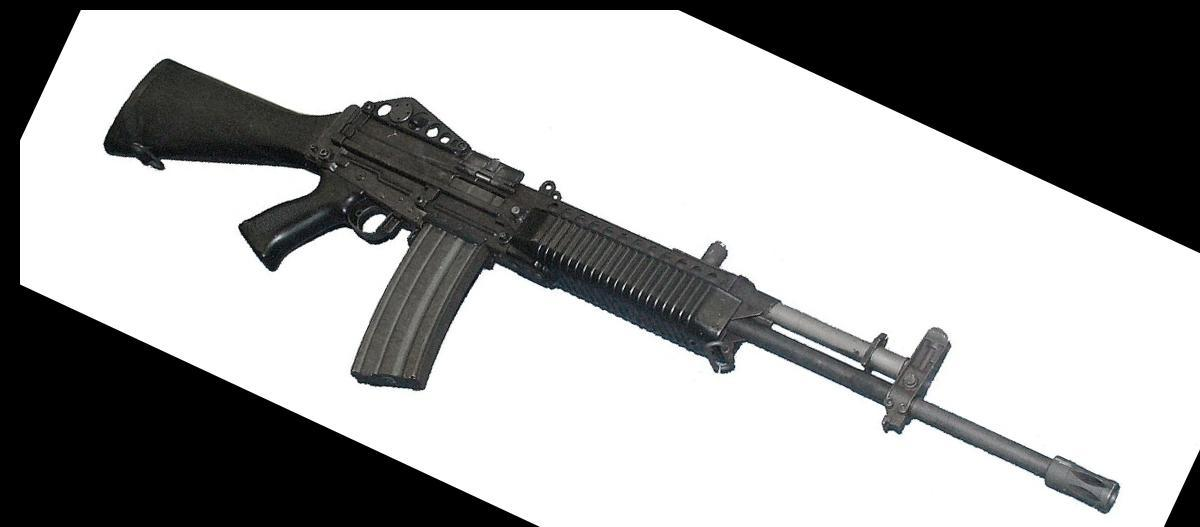larga: (102, 58, 1124, 513)
